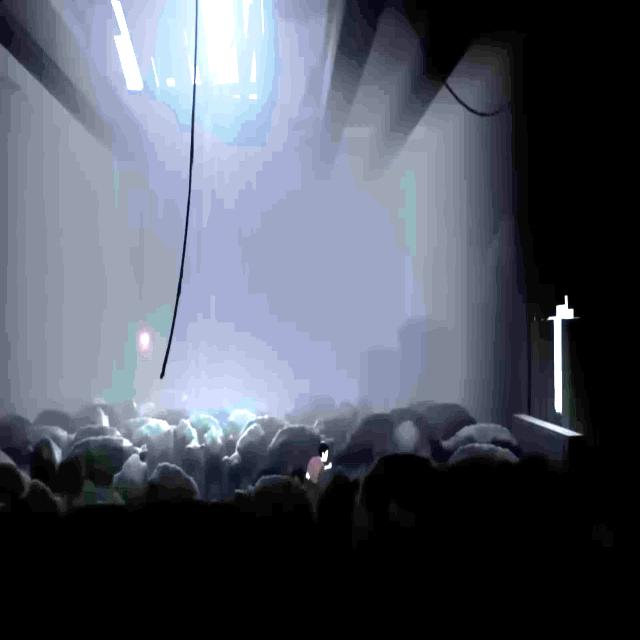boy: (304, 441, 331, 486)
